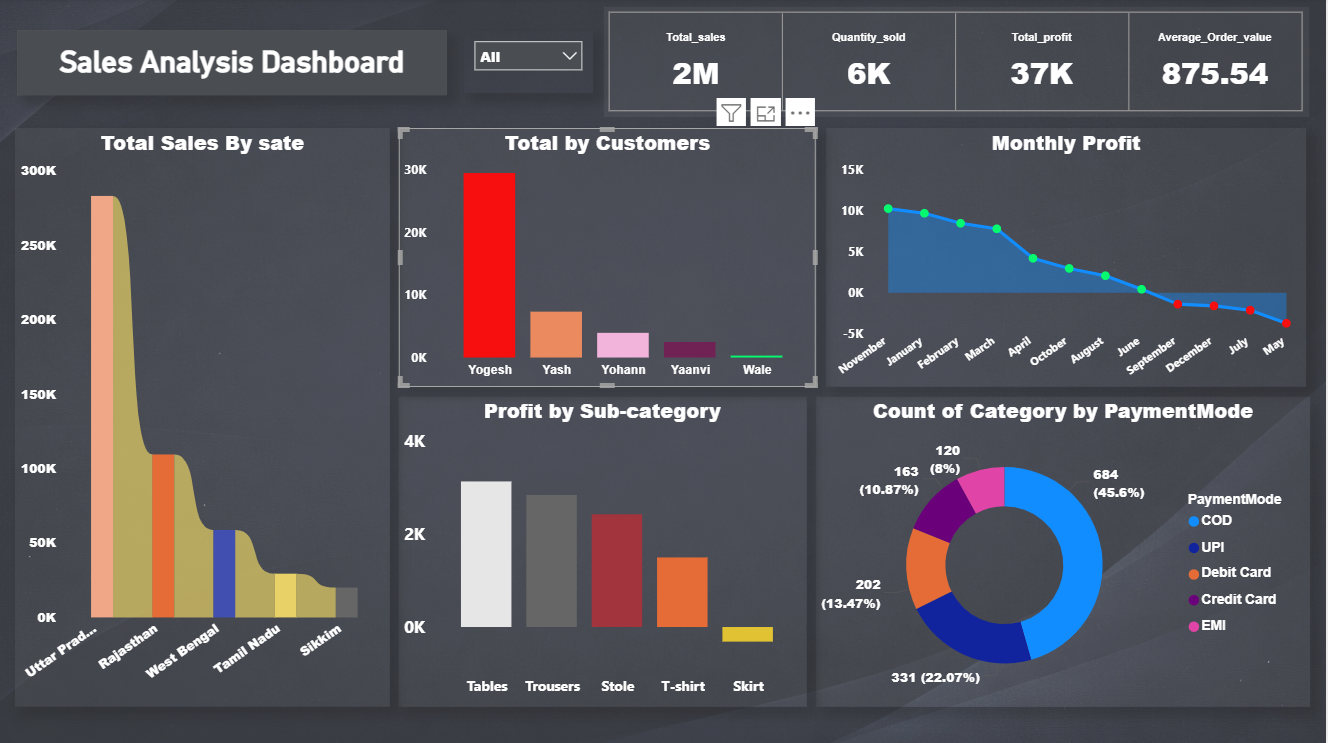

The page's visual inventory and layout, read from the dashboard file:
{"tool":"powerbi","page":{"name":"Analysis","canvas":[1280,720],"ordinal":0},"visuals":[{"type":"cardVisual","fields":{"Data":["Details.Total_sales","Details.Quantity_sold","Details.Total_profit","Details.Average_Order_value"]},"box":[583.3,8.6,681.1,106.4],"z":0},{"type":"slicer","fields":{"Values":["Orders.Quarter"]},"box":[447.6,31.8,124.7,61.1],"z":1000},{"type":"areaChart","title":"Monthly Profit","fields":{"Category":["Orders.MonthName"],"Y":["Sum(Details.Profit)"]},"box":[797.5,125.5,463.3,249.7],"z":2000},{"type":"ribbonChart","title":"Total Sales By sate","fields":{"Category":["Orders.State"],"Y":["Sum(Details.Totalx_sales)"]},"box":[14.5,125.5,361.9,558.6],"z":3000},{"type":"donutChart","fields":{"Y":["CountNonNull(Details.Category)"],"Category":["Details.PaymentMode"]},"box":[787.8,384.9,476.5,299.2],"z":4000},{"type":"columnChart","title":"Total by Customers","fields":{"Y":["Sum(Details.Totalx_sales)"],"Category":["Orders.CustomerName"]},"box":[384.9,125.5,403,249.7],"z":5000},{"type":"columnChart","title":"Profit by Sub-category","fields":{"Category":["Details.Sub-Category"],"Y":["Details.Total_profit"]},"box":[384.9,384.9,393.3,299.2],"z":6000},{"type":"shape","box":[17.1,31.8,414.5,62.4],"z":7000},{"type":"textbox","box":[18.1,39.8,411.4,53.1],"z":8000}]}

Visuals, with their boxes in screenshot pixels (x1, y1, x2, y2), scaled from the page's 1280x720 canvas onto the 1328x743 screenshot:
cardVisual - Details.Total_sales x Details.Quantity_sold: {"x1": 605, "y1": 9, "x2": 1312, "y2": 119}
slicer - Orders.Quarter: {"x1": 464, "y1": 33, "x2": 594, "y2": 96}
"Monthly Profit" areaChart: {"x1": 827, "y1": 130, "x2": 1308, "y2": 387}
"Total Sales By sate" ribbonChart: {"x1": 15, "y1": 130, "x2": 391, "y2": 706}
donutChart - CountNonNull(Details.Category) x Details.PaymentMode: {"x1": 817, "y1": 397, "x2": 1312, "y2": 706}
"Total by Customers" columnChart: {"x1": 399, "y1": 130, "x2": 817, "y2": 387}
"Profit by Sub-category" columnChart: {"x1": 399, "y1": 397, "x2": 807, "y2": 706}
shape: {"x1": 18, "y1": 33, "x2": 448, "y2": 97}
textbox: {"x1": 19, "y1": 41, "x2": 446, "y2": 96}
